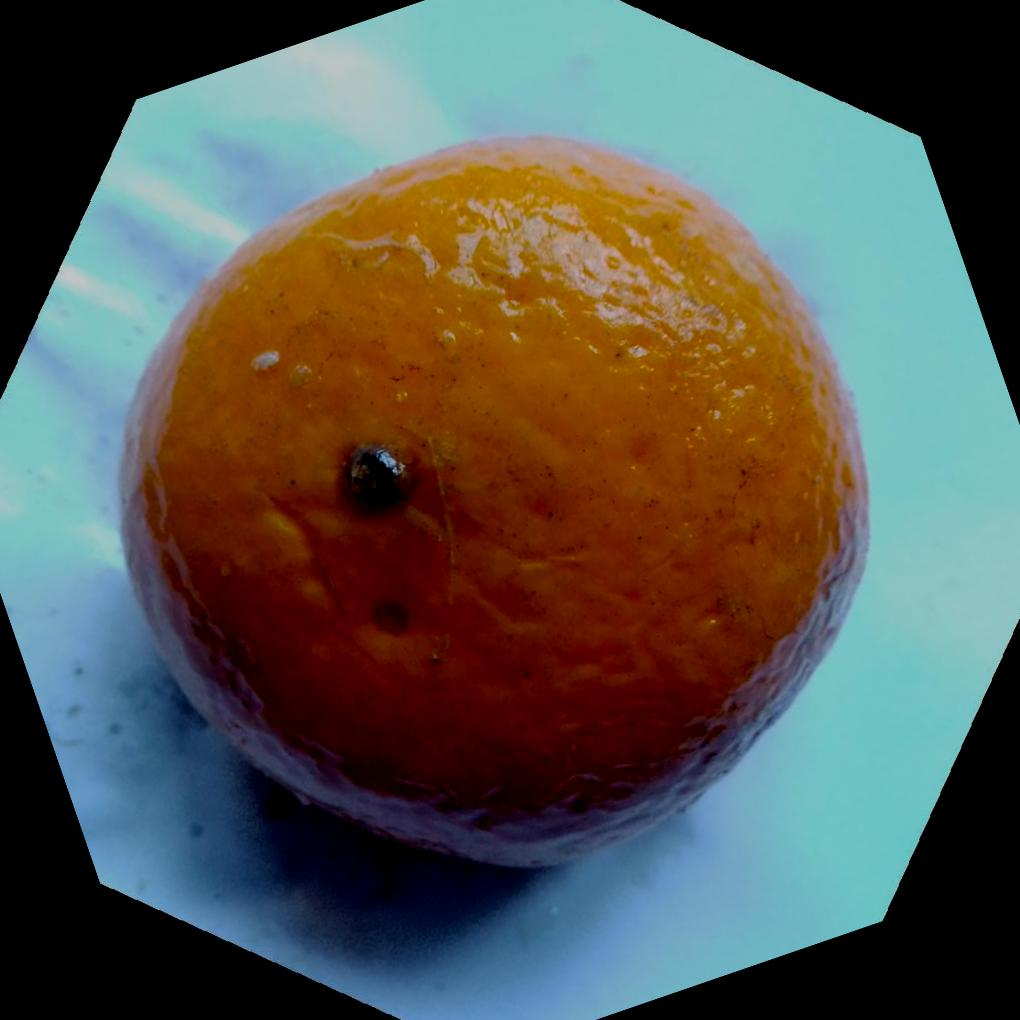FreshOrange: (112, 133, 869, 872)
